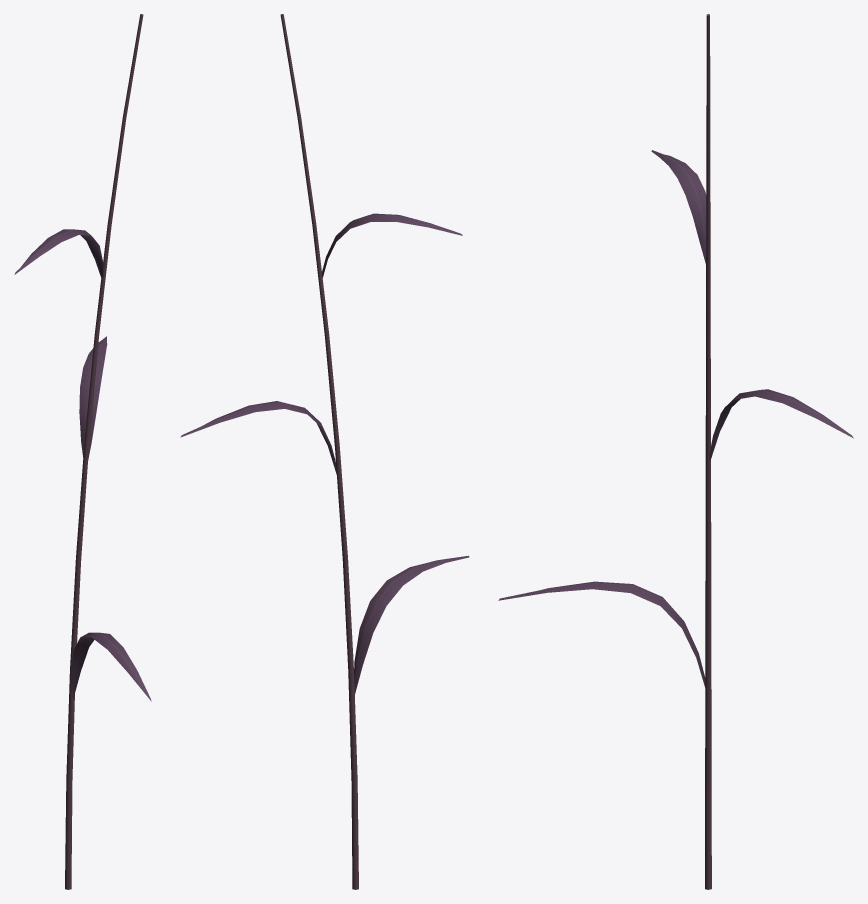
File: single_stem_03.glb
3 views of the same model, side by side, from view 1: azimuth 30°, elevation 25°; view 2: azimuth 150°, elevation 25°; view 3: azimuth 270°, elevation 25° (orthographic). The views are drawn at different scales.
Visible parts, largest first — view 1: export; view 2: export; view 3: export.
Boxes of the visible parts, x1=… form: export: x1=14, y1=14, x2=151, y2=889; export: x1=180, y1=14, x2=469, y2=889; export: x1=498, y1=14, x2=853, y2=889.
Size of the model in its own units: 0.2297 by 1 by 0.3539.
Materials: 2 (2 with a texture image).
